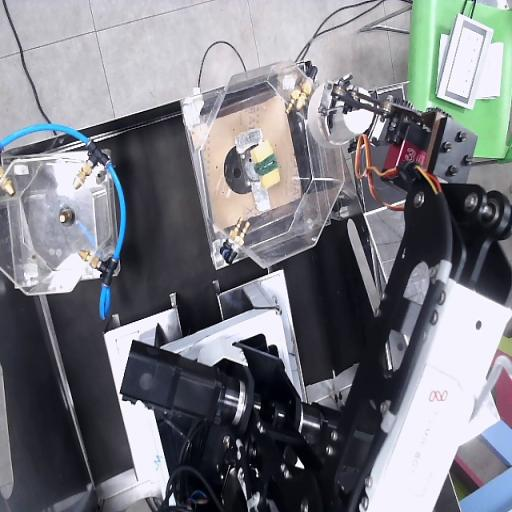cup in wash station: (307, 81, 374, 147)
